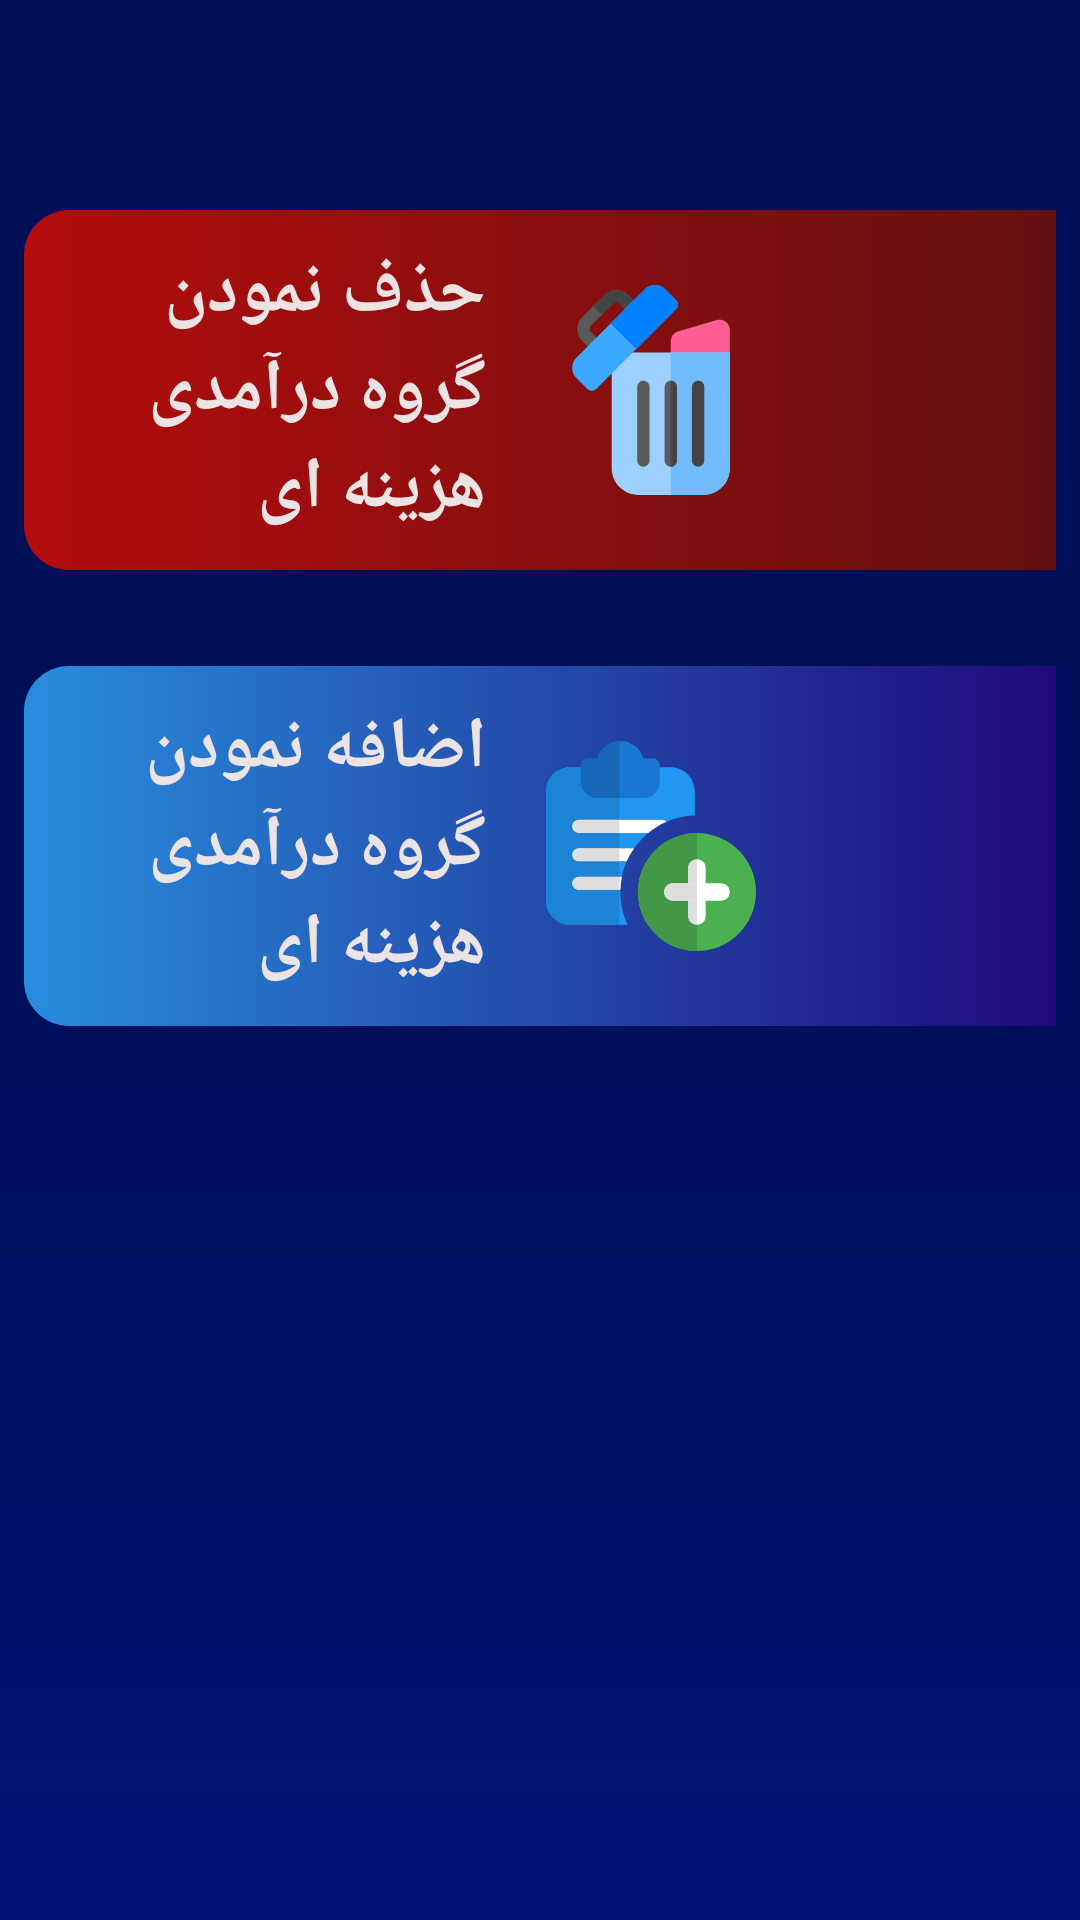

Locate icon controls on the screen. Image size 1080*1920, boxes as rect(x1, y1, x2, y2).
add income expense: rect(546, 741, 756, 951)
delete income expense: rect(572, 285, 730, 495)
